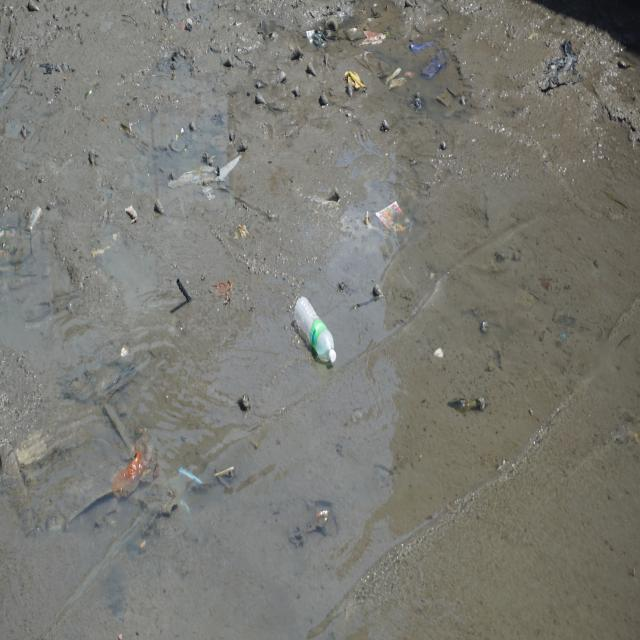Botol Plastik: (290, 293, 342, 372)
Bungkus Makanan: (372, 197, 412, 244)
Kantong Plastik: (113, 445, 147, 499)
